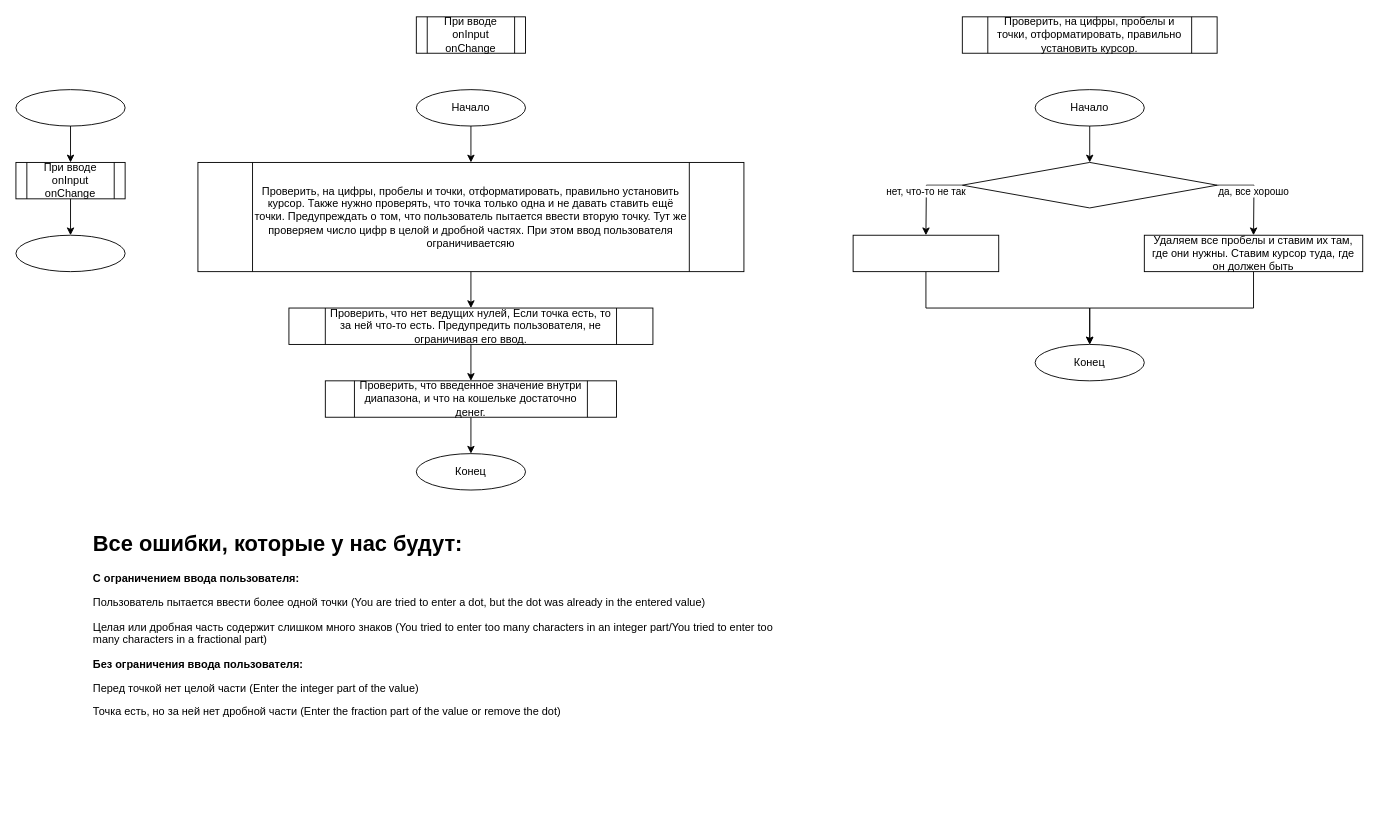
The diagram is 1379 pixels wide and 834 high, and some of its shapes have lost their labels. Here are the shapes that lost their labels. From the top down, the box of each, then its label:
(15, 89, 125, 126): Пустая строка
(961, 162, 1217, 208): Регуляркой проверяем, что выражение состоит из цифр, пробелов и точек
(15, 234, 125, 272): Значение input и вывод ошибок
(852, 234, 999, 272): Возвращаем значение input до ввода. Ставим курсор туда, где он был до этого
